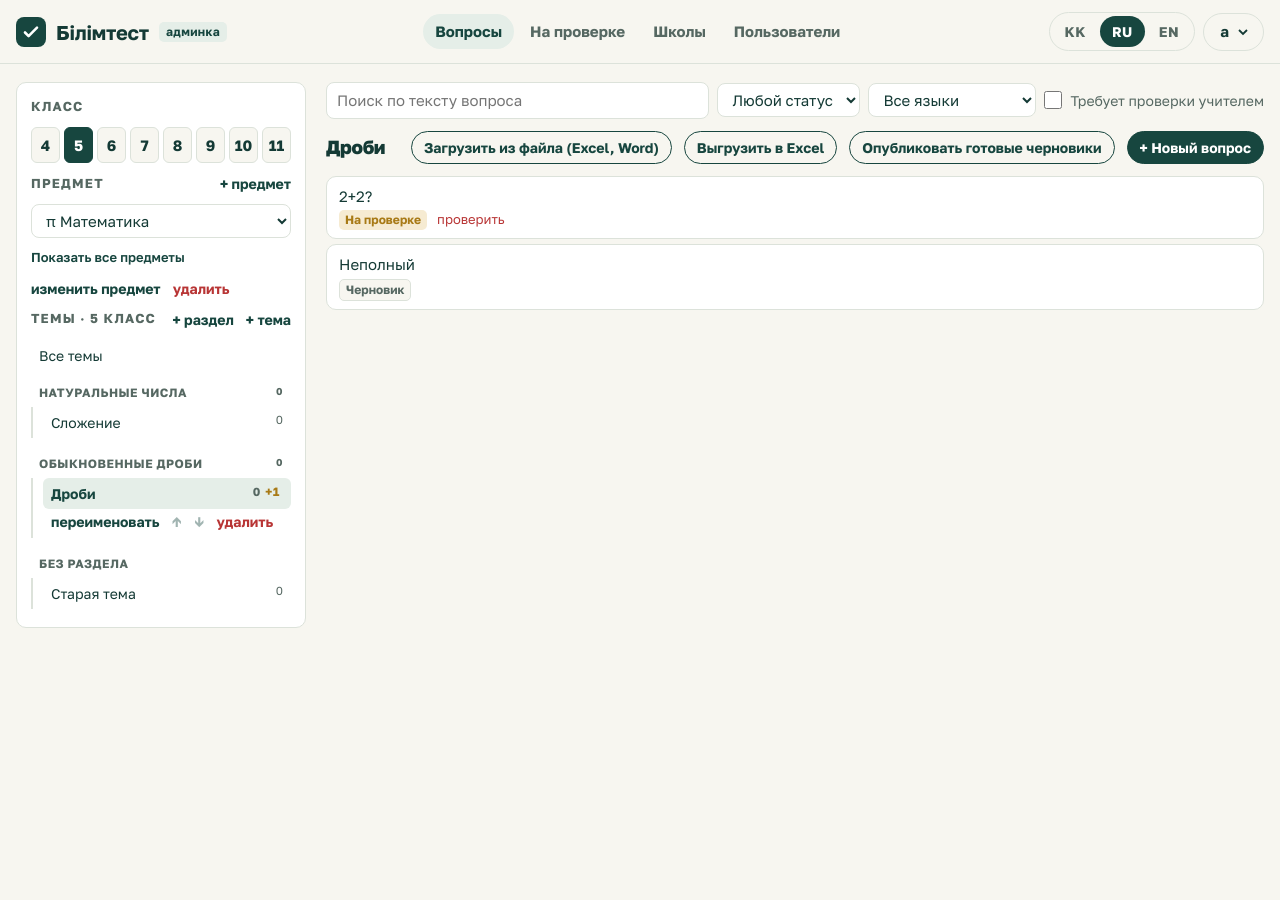
Test: админка › «Опубликовать готовые черновики»: спрашивает подтверждение и публикует только вопросы без ошибок
The width and height of the screenshot is (1280, 900).
Click the button "Опубликовать готовые черновики" at {"x": 982, "y": 147}, box 849,130 -> 1115,164
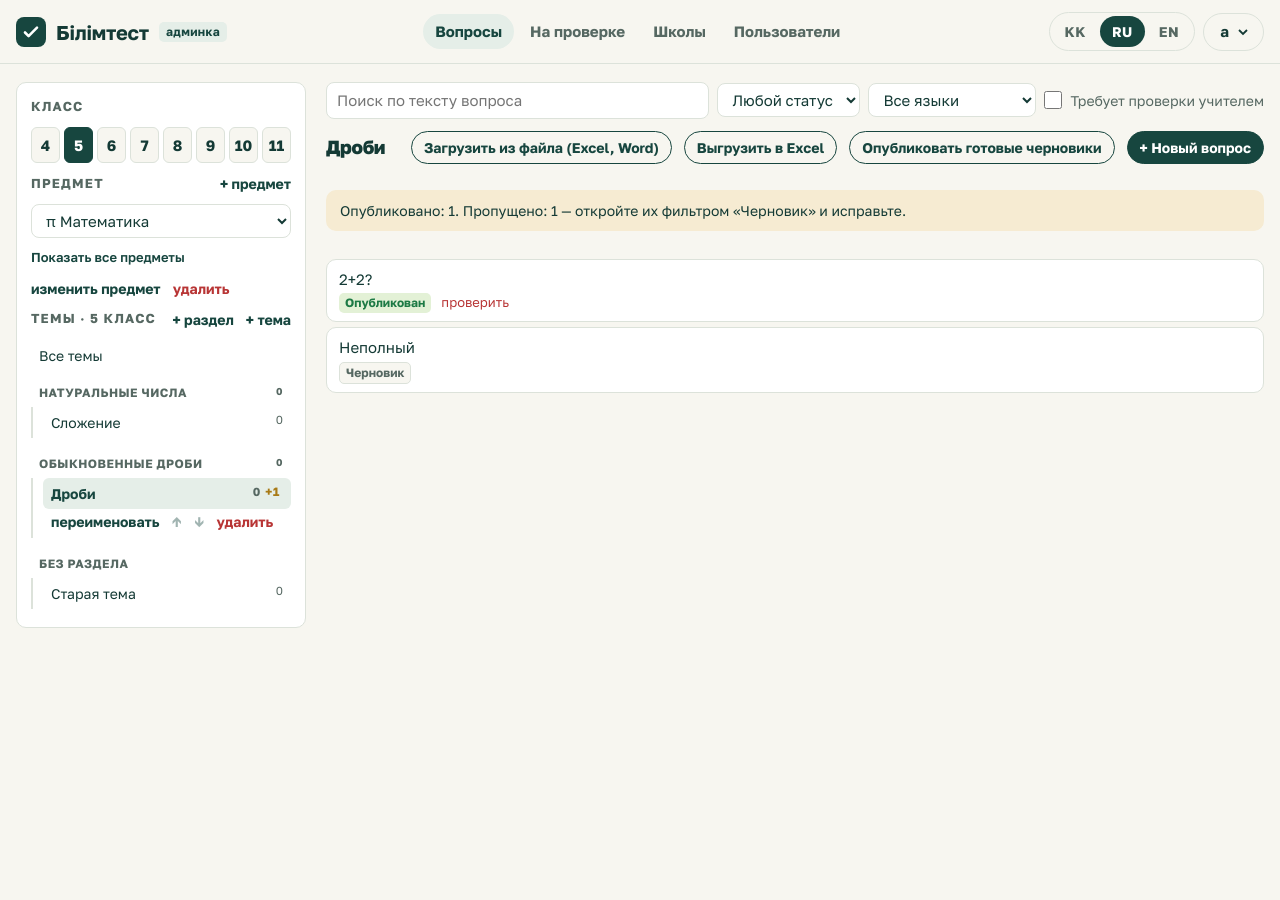
Result: the text "Опубликовано: 1. Пропущено: 1 — откройте их фильтром «Черновик» и исправьте." is shown at 326,190 -> 1264,230
